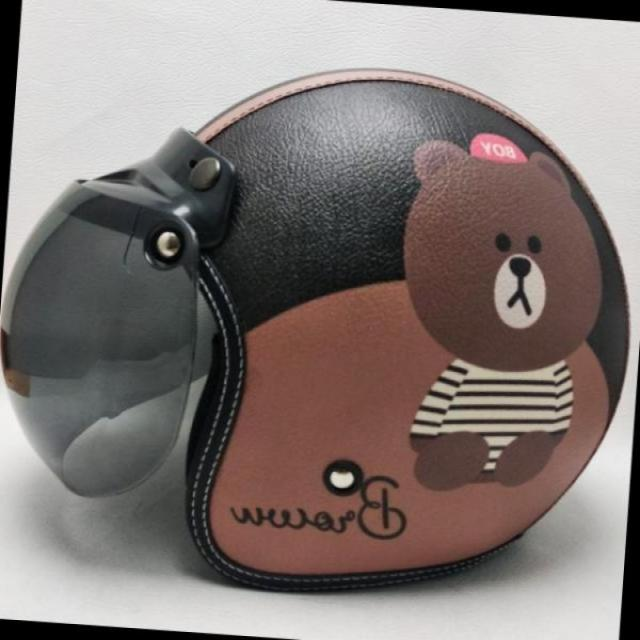Helmet: (22, 73, 616, 587)
